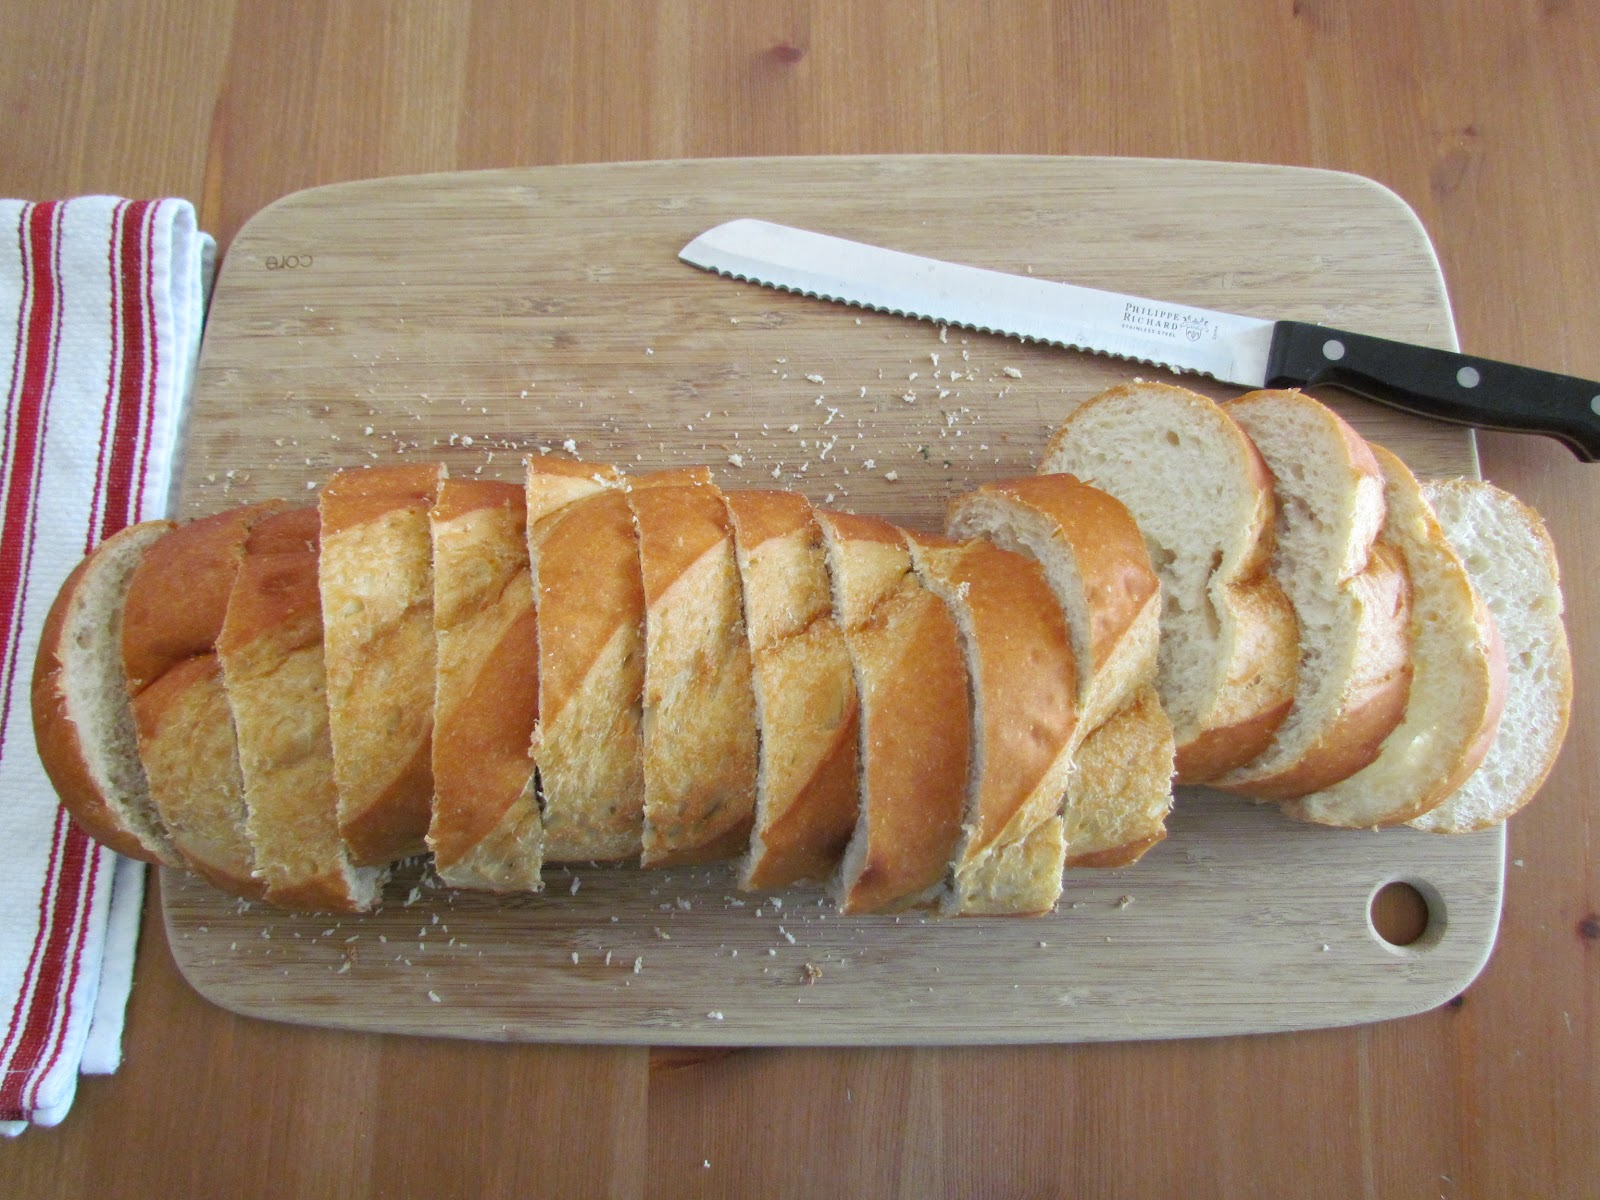slice of bread: (144, 524, 1500, 788)
